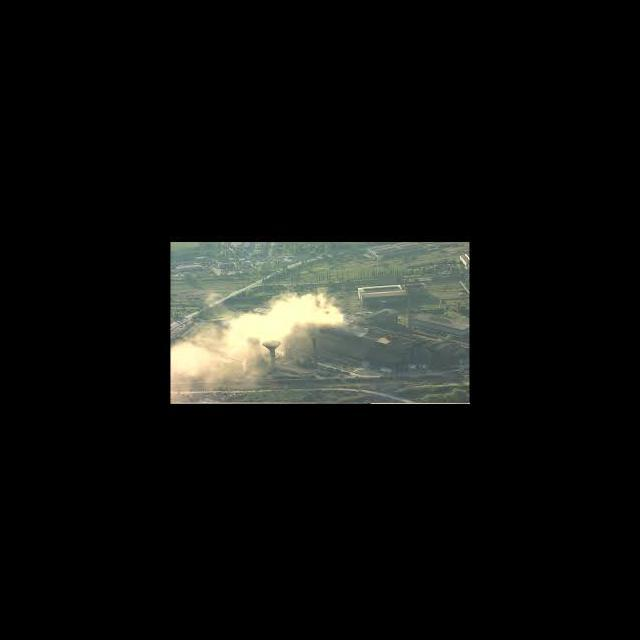Smoke: (223, 295, 343, 352), (172, 341, 223, 395)
